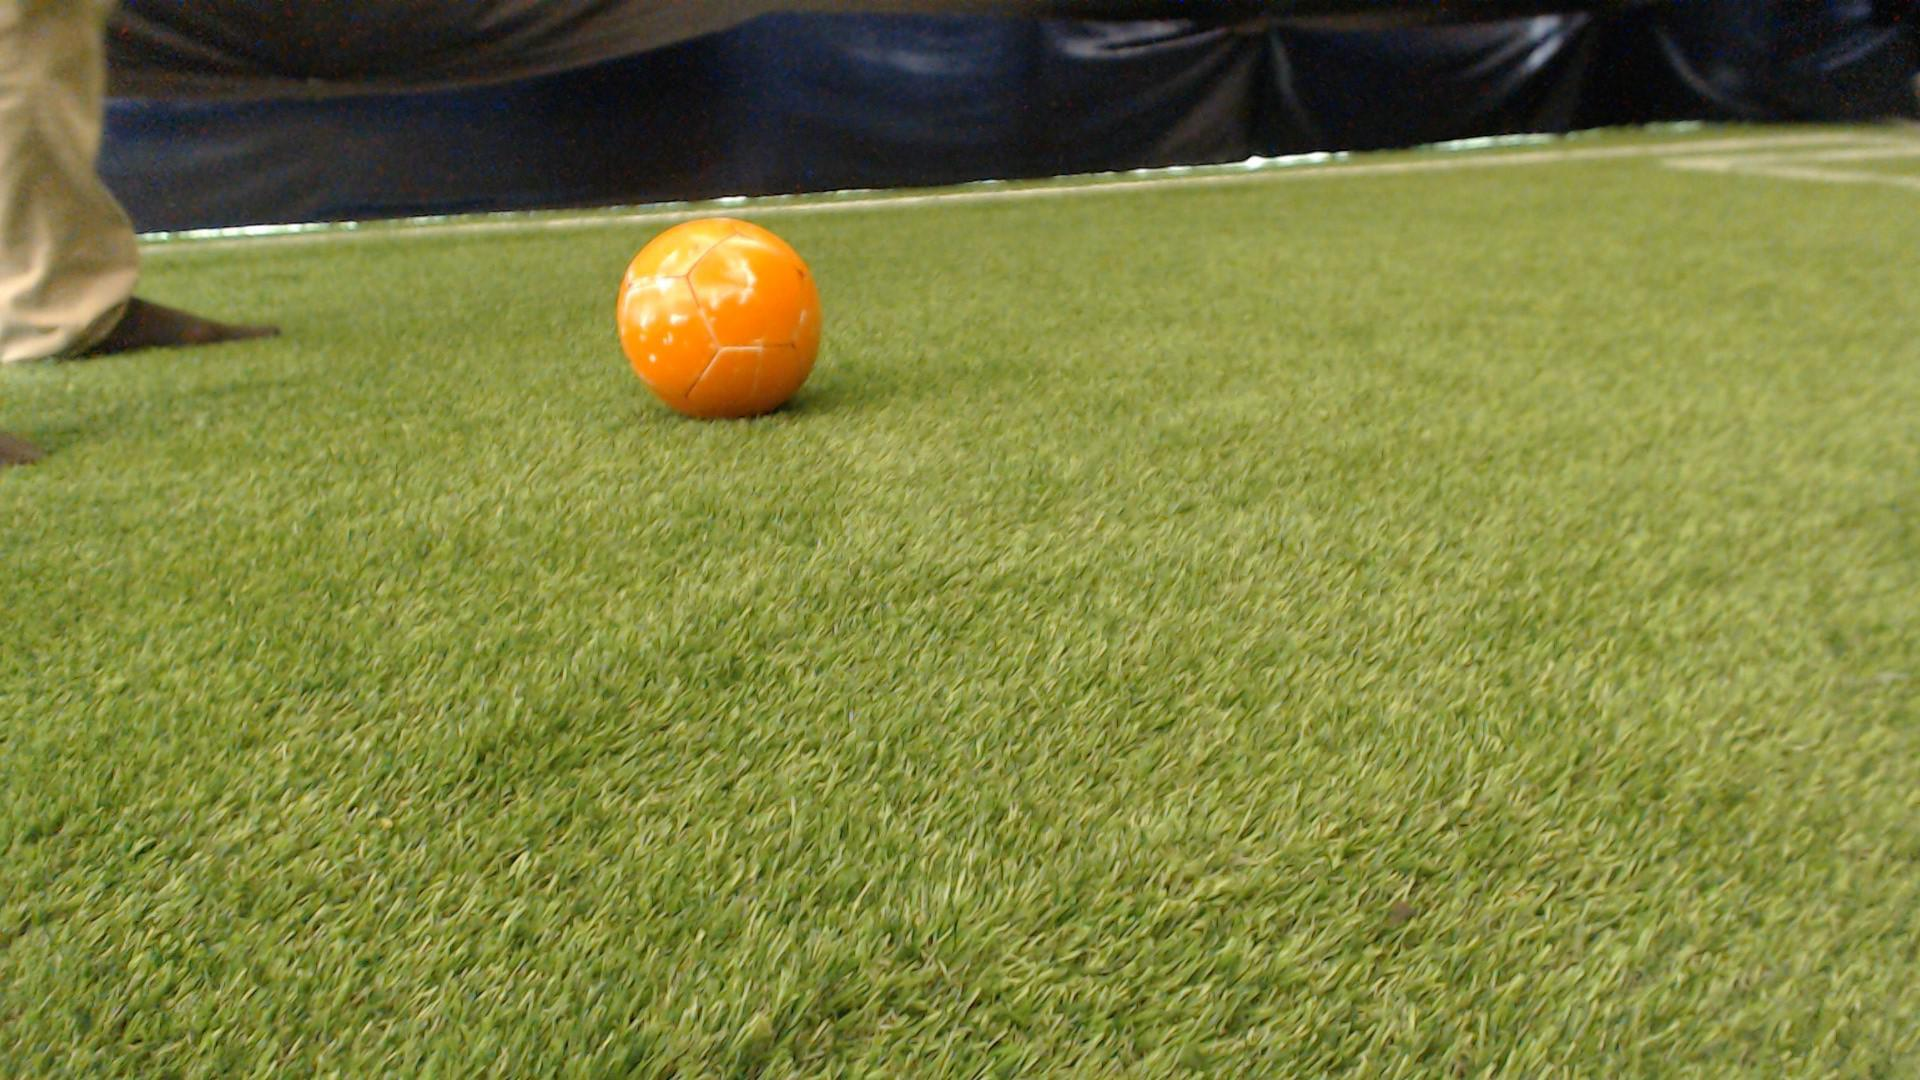bola: (597, 202, 876, 442)
